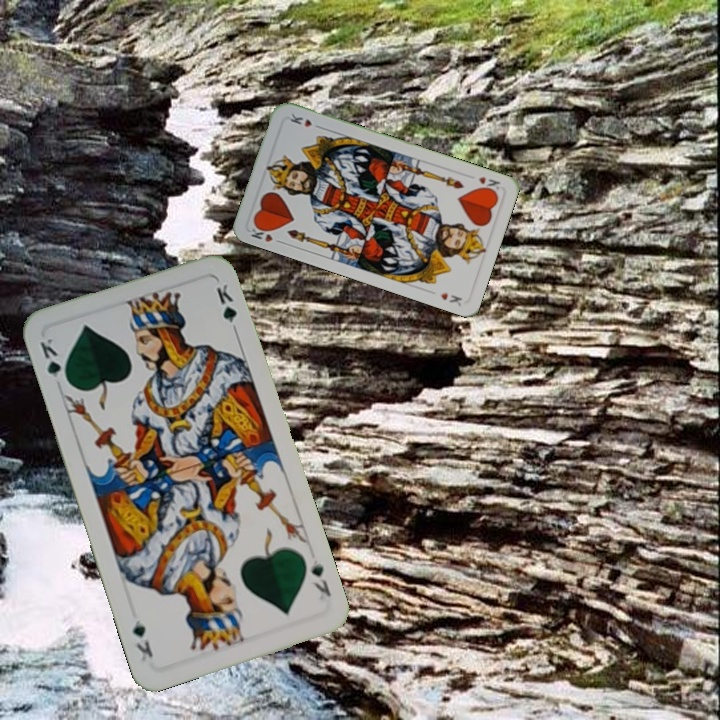GK: (36, 334, 71, 388), (307, 555, 334, 599)
HK: (247, 220, 286, 246), (475, 172, 503, 196)
